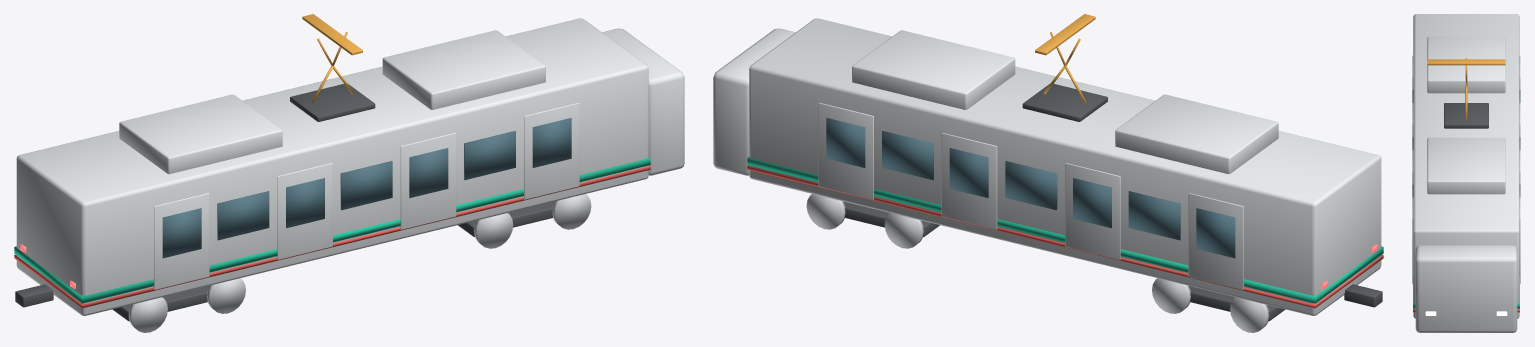
Rendered from dhaka-metro.glb.
The picture shows the model from 3 angles, left to right: view 1: azimuth 30°, elevation 25°; view 2: azimuth 150°, elevation 25°; view 3: azimuth 270°, elevation 25°; orthographic projection. The views are drawn at different scales.
Visible parts, largest first — view 1: MetroShell, HVAC_1, HVAC_2, CabNose, Door_1_L, StripeGreen, Door_0_L, Door_3_L, Door_2_L, StripeRed, SideWindow_2_L, SideWindow_1_L (+14 smaller); view 2: MetroShell, HVAC_1, HVAC_2, CabNose, Door_1_R, StripeGreen, Door_0_R, Door_3_R, Door_2_R, StripeRed, SideWindow_2_R, SideWindow_1_R (+14 smaller); view 3: MetroShell, CabNose, HVAC_1, HVAC_2, PantographBase, PantoCollector, Door_0_L, Door_0_R, PantoArm2.
Boxes of the visible parts, x1=… form: MetroShell: x1=16, y1=18, x2=648, y2=315; HVAC_1: x1=382, y1=30, x2=545, y2=109; HVAC_2: x1=119, y1=94, x2=282, y2=174; CabNose: x1=602, y1=28, x2=684, y2=175; Door_1_L: x1=400, y1=133, x2=456, y2=229; StripeGreen: x1=14, y1=157, x2=650, y2=303; Door_0_L: x1=524, y1=102, x2=579, y2=199; Door_3_L: x1=154, y1=193, x2=209, y2=289; Door_2_L: x1=277, y1=163, x2=332, y2=259; StripeRed: x1=14, y1=165, x2=650, y2=308; SideWindow_2_L: x1=217, y1=191, x2=269, y2=240; SideWindow_1_L: x1=340, y1=161, x2=392, y2=210; MetroShell: x1=749, y1=18, x2=1381, y2=315; HVAC_1: x1=852, y1=30, x2=1015, y2=109; HVAC_2: x1=1115, y1=94, x2=1278, y2=174; CabNose: x1=713, y1=28, x2=795, y2=175; Door_1_R: x1=941, y1=133, x2=997, y2=229; StripeGreen: x1=747, y1=157, x2=1383, y2=303; Door_0_R: x1=818, y1=102, x2=873, y2=199; Door_3_R: x1=1188, y1=193, x2=1243, y2=289; Door_2_R: x1=1065, y1=163, x2=1120, y2=259; StripeRed: x1=747, y1=165, x2=1383, y2=308; SideWindow_2_R: x1=1128, y1=191, x2=1180, y2=240; SideWindow_1_R: x1=1005, y1=161, x2=1057, y2=210; MetroShell: x1=1413, y1=14, x2=1519, y2=318; CabNose: x1=1415, y1=245, x2=1517, y2=332; HVAC_1: x1=1427, y1=137, x2=1505, y2=194; HVAC_2: x1=1427, y1=36, x2=1505, y2=93; PantographBase: x1=1444, y1=103, x2=1488, y2=128; PantoCollector: x1=1427, y1=59, x2=1505, y2=65; Door_0_L: x1=1412, y1=197, x2=1413, y2=283; Door_0_R: x1=1519, y1=197, x2=1520, y2=283; PantoArm2: x1=1465, y1=87, x2=1467, y2=120.
Bounding box in the file's own units: 15.47 × 5.26 × 2.91.
